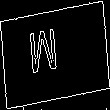M_S: (39, 26, 71, 84)
